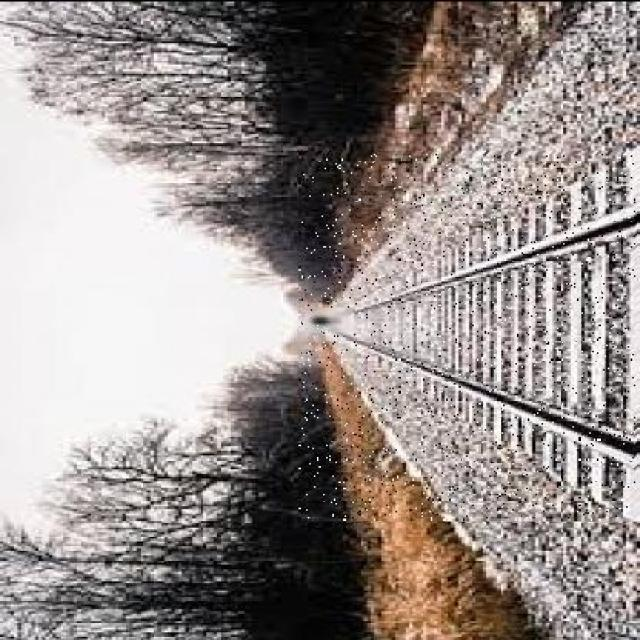danger: (307, 306, 356, 329)
rail: (300, 152, 635, 519)
